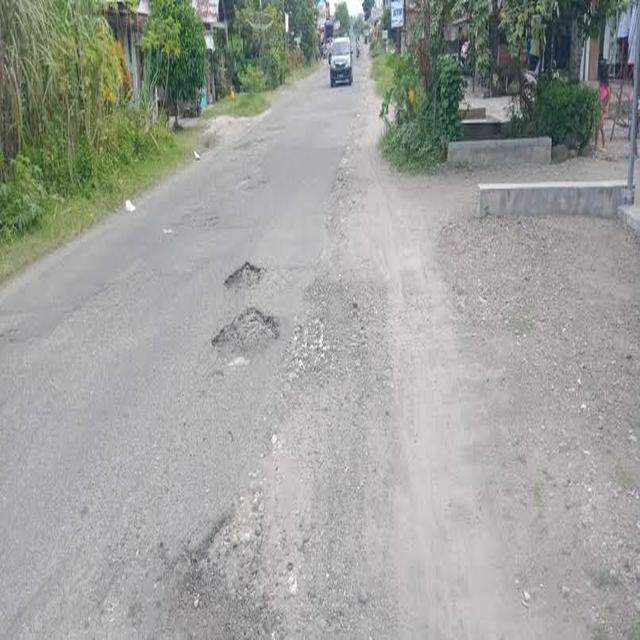Lubang: (190, 502, 281, 631), (213, 316, 273, 348), (221, 262, 265, 288)
